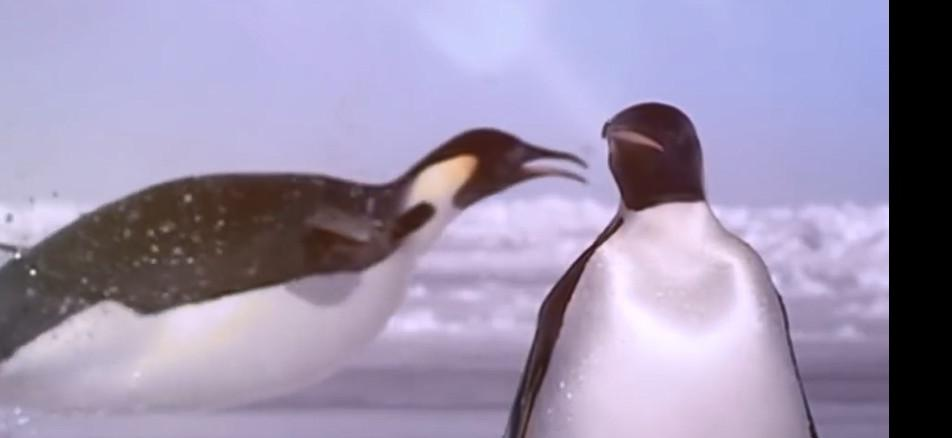Emperor Penguin: (0, 107, 600, 411), (475, 75, 838, 438)
